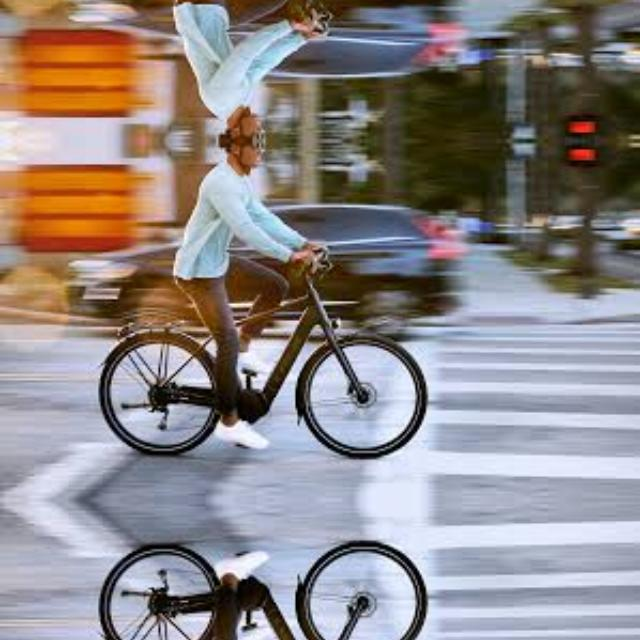obstacle: (101, 262, 442, 468), (101, 531, 442, 640), (101, 0, 442, 18)
